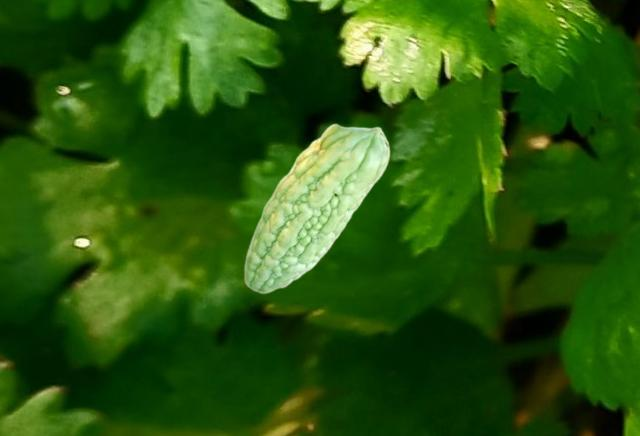ampalaya: (243, 123, 392, 296)
